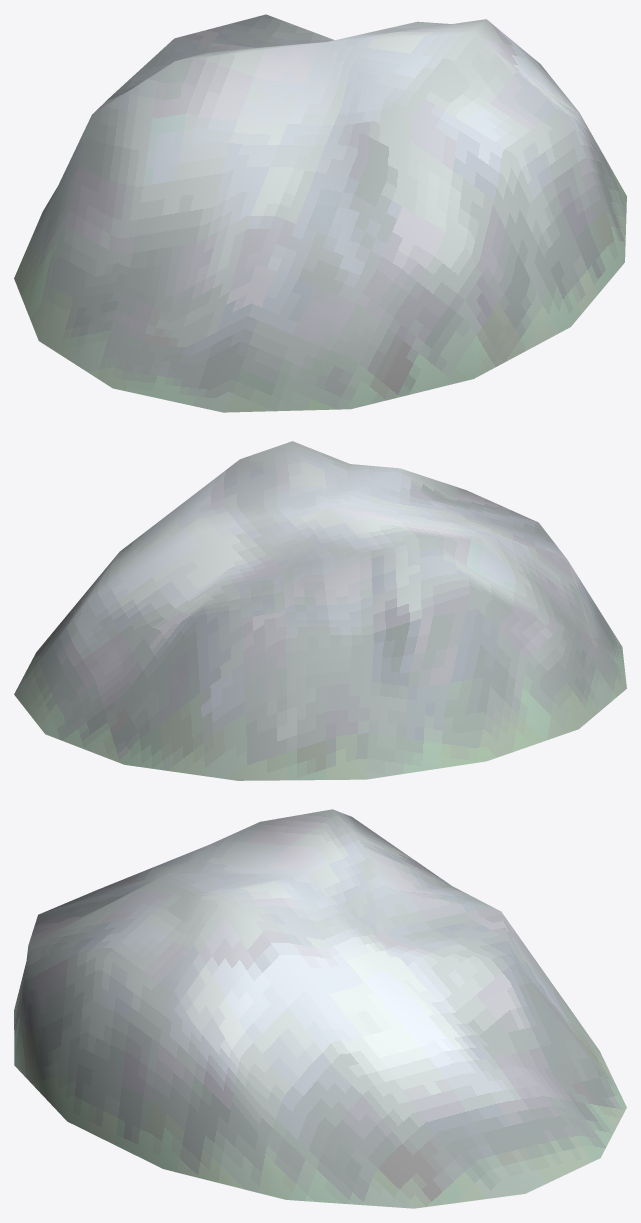
Rendered from TROLLHOLE02_STONEA06.fbx.
3 views of the same model, one above another, from view 1: azimuth 30°, elevation 25°; view 2: azimuth 150°, elevation 25°; view 3: azimuth 270°, elevation 25° (orthographic). The views are drawn at different scales.
Parts seen in each view (by area): view 1: TROLLHOLE02_STONEA06; view 2: TROLLHOLE02_STONEA06; view 3: TROLLHOLE02_STONEA06.
Part boxes in pixels (x1=…): TROLLHOLE02_STONEA06: x1=14, y1=14, x2=626, y2=412; TROLLHOLE02_STONEA06: x1=14, y1=441, x2=626, y2=780; TROLLHOLE02_STONEA06: x1=14, y1=809, x2=626, y2=1208.
Size of the model in its own units: 12106 by 4514 by 11572.
Materials: 1 (1 with a texture image).
